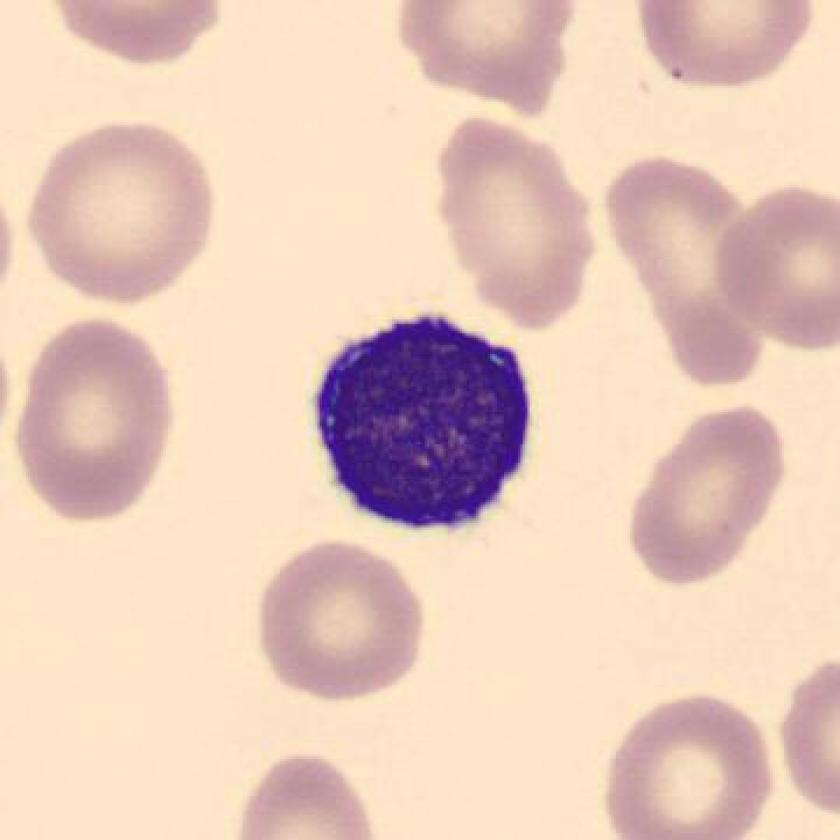lymphocyte: (295, 302, 547, 547)
